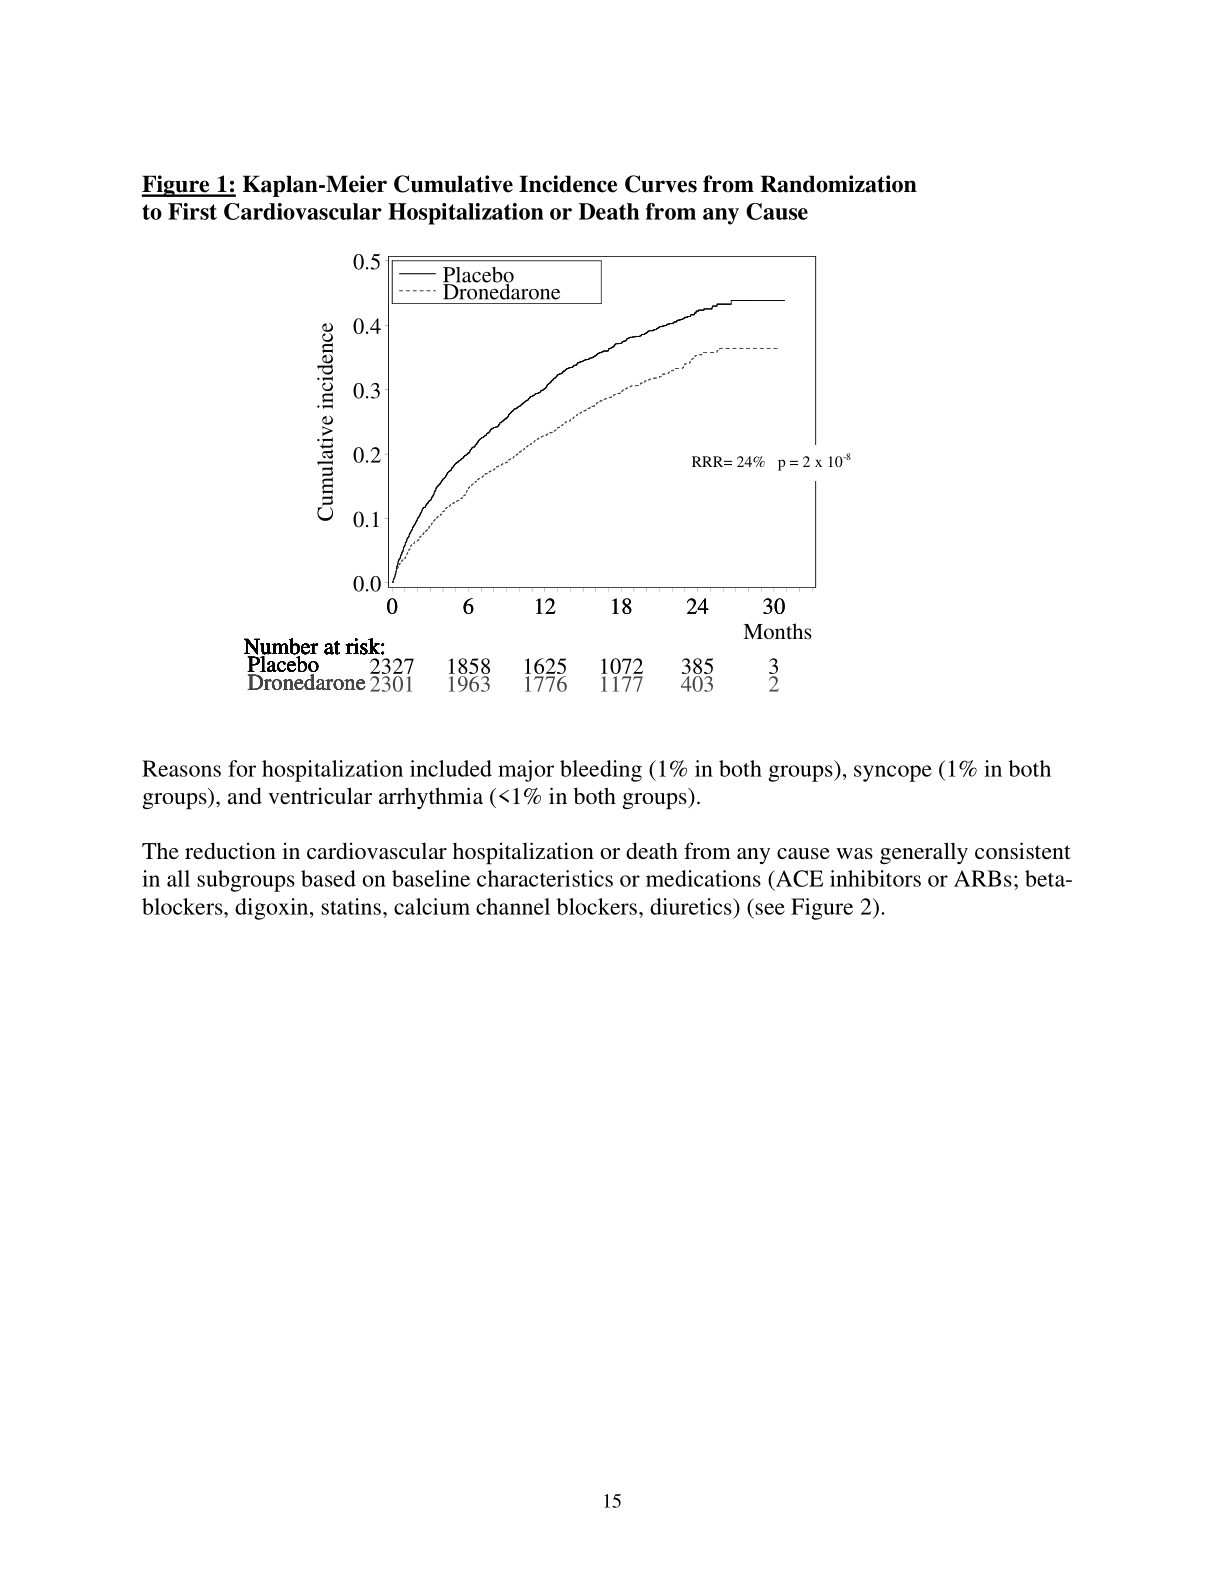nolines: (244, 654, 782, 696)
